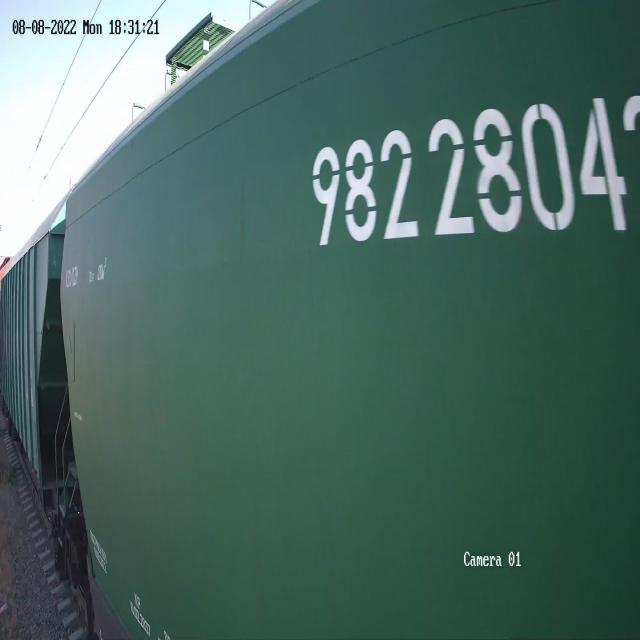hopper: (55, 0, 640, 640), (0, 184, 71, 530)
